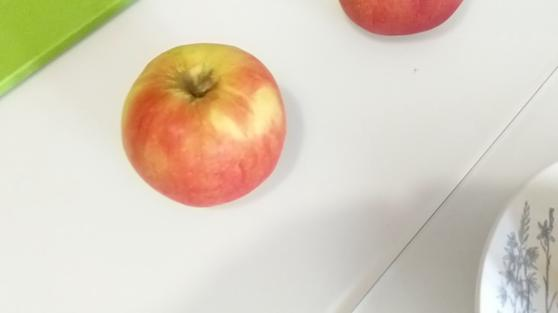apple: (120, 43, 289, 210)
